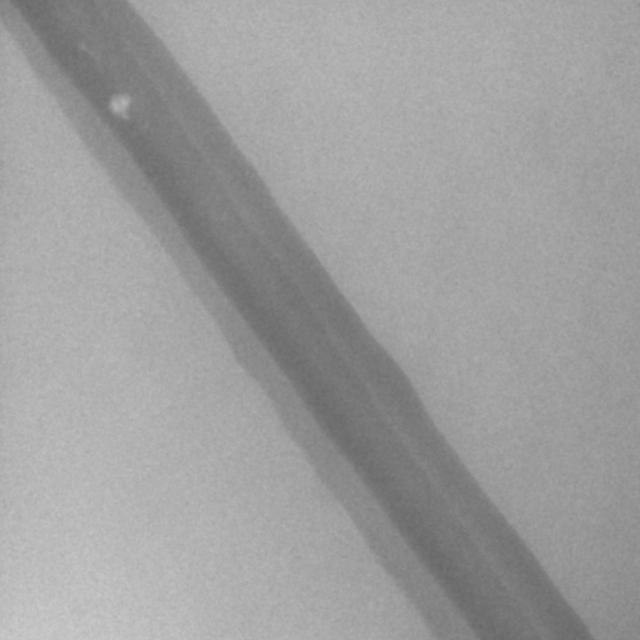slag inclusion: (109, 93, 131, 120)
